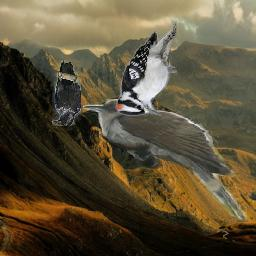Crow: (53, 60, 82, 126)
Cuckoo: (83, 100, 247, 223)
Woodpecker: (111, 22, 178, 121)
